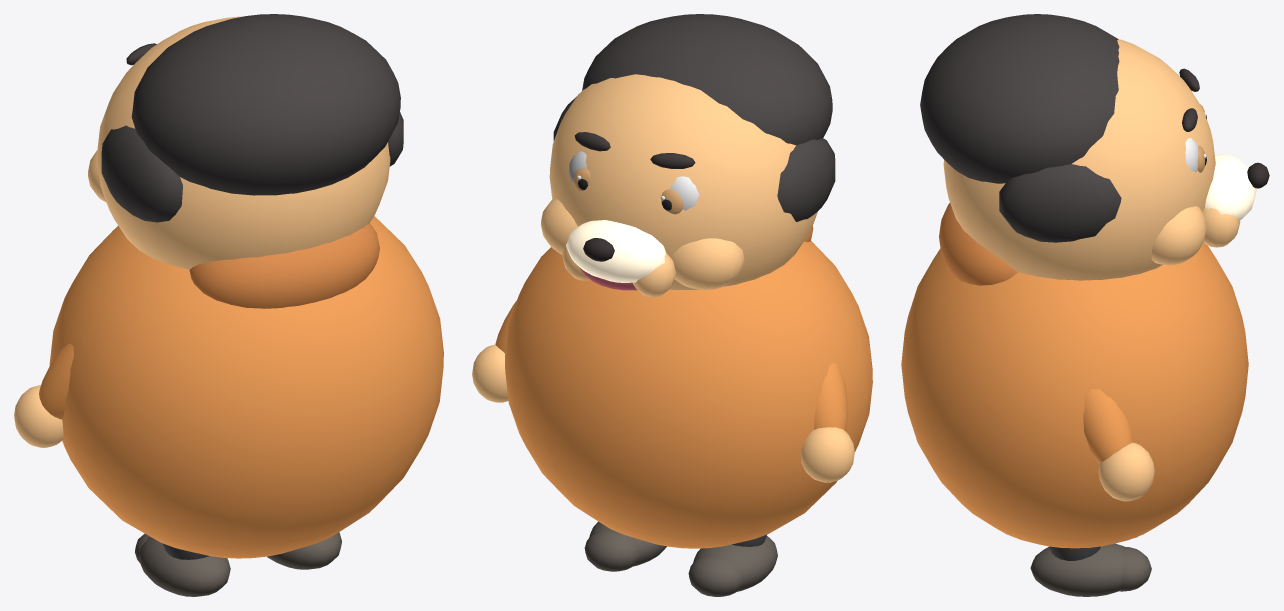
File: P1_Bulldog.fbx
The picture shows the model from 3 angles, left to right: view 1: azimuth 30°, elevation 25°; view 2: azimuth 150°, elevation 25°; view 3: azimuth 270°, elevation 25°; orthographic projection. The views are drawn at different scales.
Parts seen in each view (by area): view 1: Body; view 2: Body; view 3: Body.
Part boxes in pixels (bbox=[...]): Body: bbox=[14, 14, 443, 596]; Body: bbox=[472, 14, 872, 596]; Body: bbox=[901, 14, 1269, 596].
Size of the model in its own units: 141 by 188 by 118.
